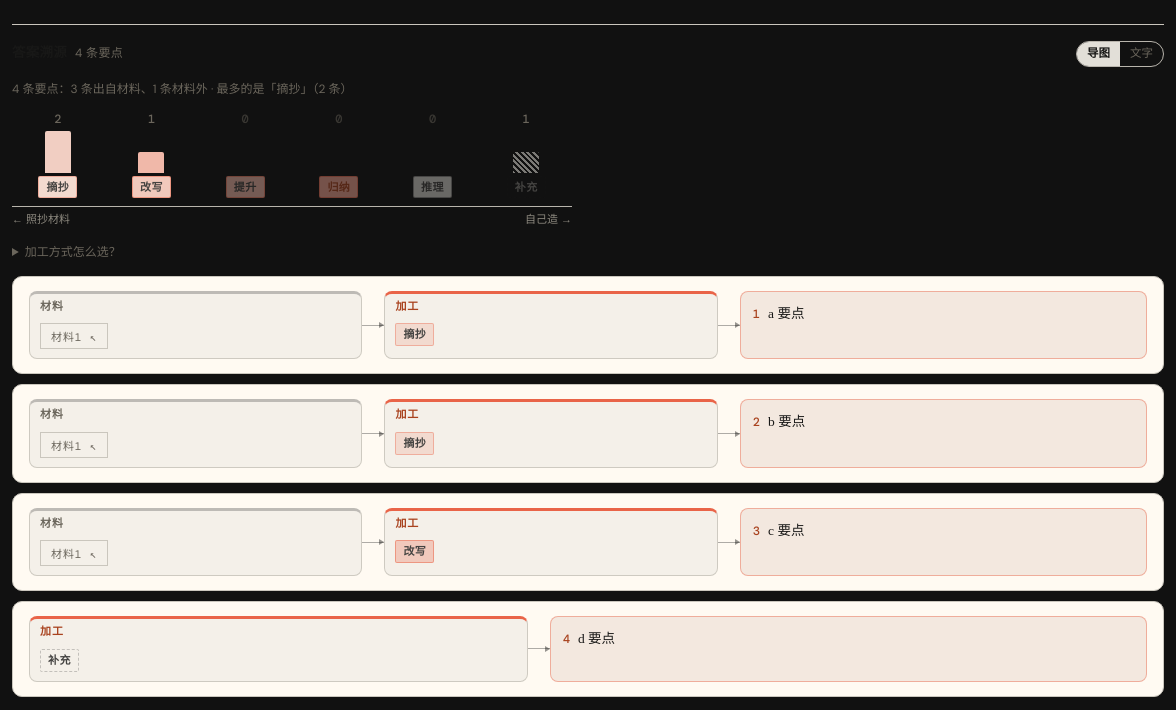
ExamAnswerTrace · 加工方式谱系概览（C1） › 点一列筛出该类要点：编号保持全集序号，再点取消
Click the button with class "ms-col" showing "1 改写" at (152, 154), box left=108, top=107, right=195, bottom=200
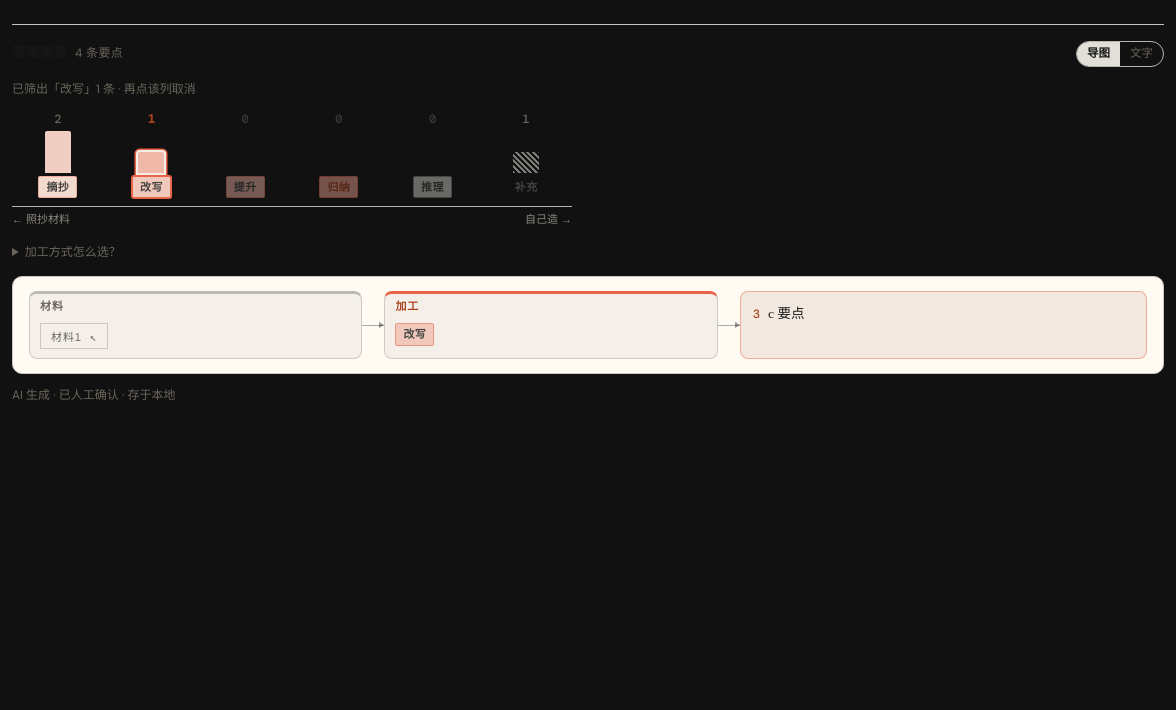
Expected: the number of elements with class "draw-card" is 1, left=12, top=276, right=1164, bottom=374
Result: the text with class "ms-summary" shows "已筛出「改写」1 条" at left=12, top=80, right=196, bottom=96
Click the button with class "ms-col" showing "1 改写" at (152, 154), box left=108, top=107, right=195, bottom=200
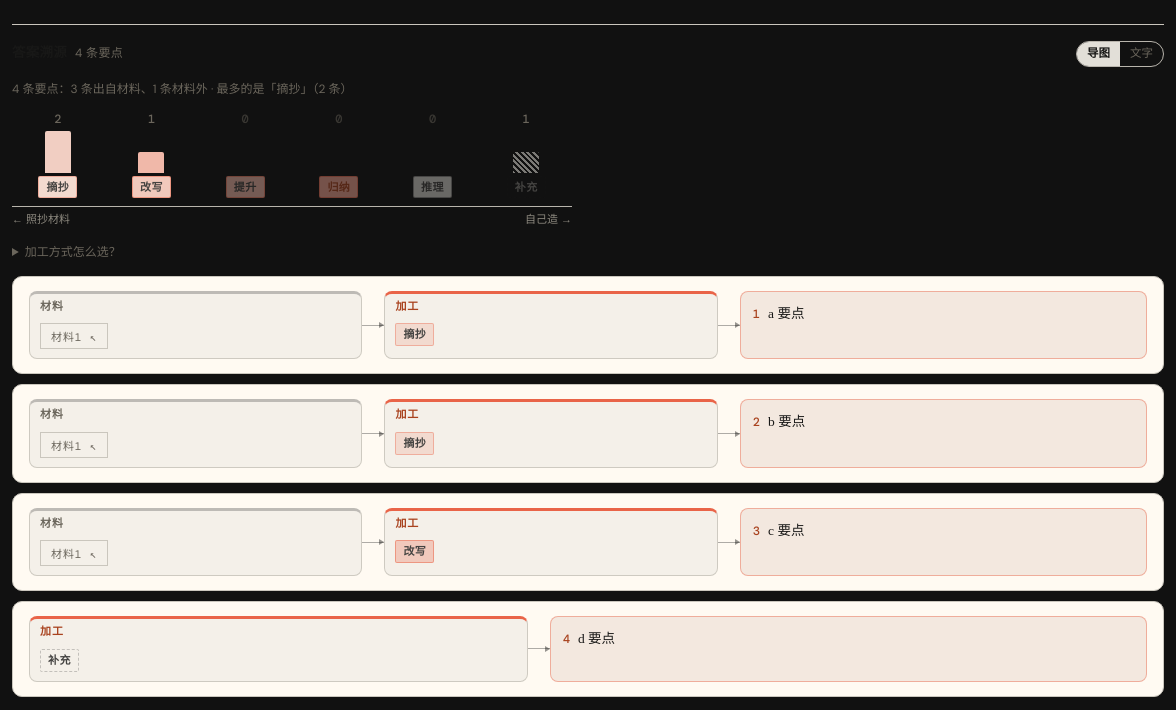
Result: the number of elements with class "draw-card" is 4 at left=12, top=276, right=1164, bottom=374; left=12, top=384, right=1164, bottom=483; left=12, top=493, right=1164, bottom=591; left=12, top=601, right=1164, bottom=696
Result: the text with class "draw-no" next to "a 要点" reads "1" at left=753, top=306, right=760, bottom=322
